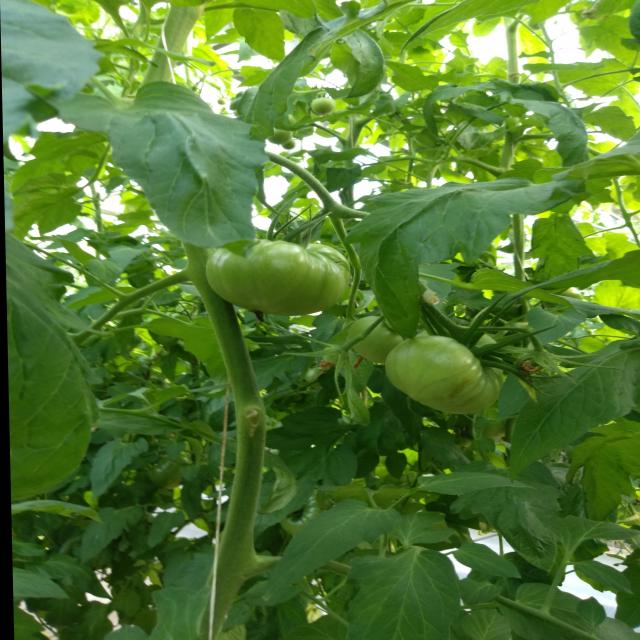yesil: (166, 194, 518, 431)
